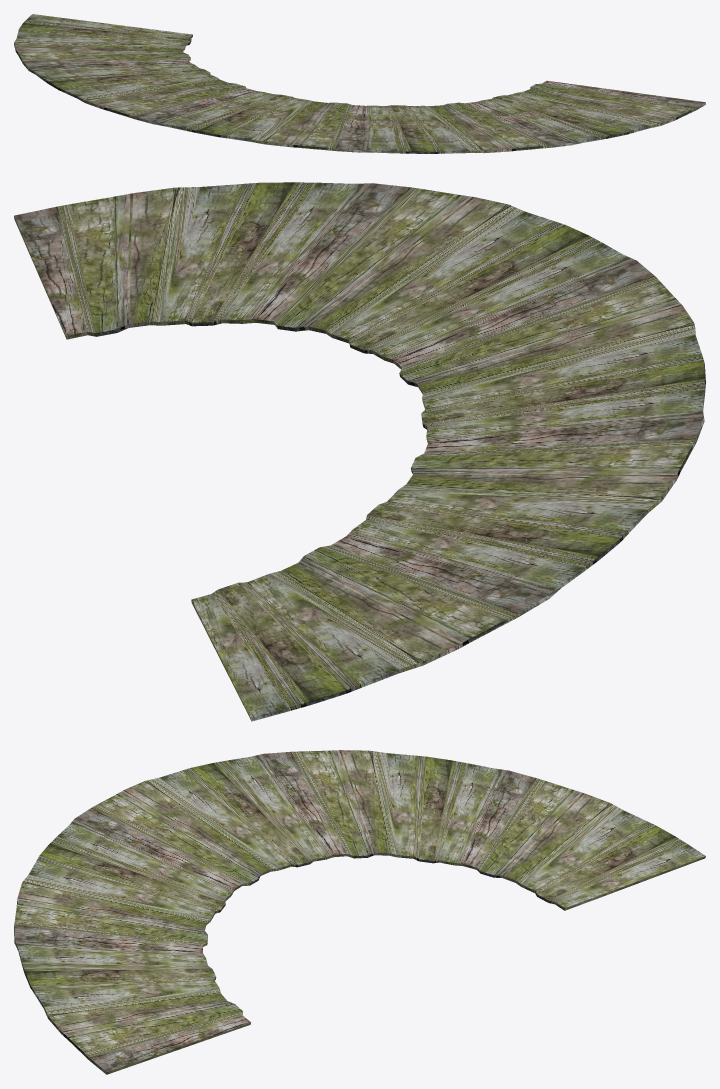
The model's file is GAMEOBJECT-28.fbx.
3 views of the same model, one above another, from view 1: azimuth 30°, elevation 25°; view 2: azimuth 150°, elevation 25°; view 3: azimuth 270°, elevation 25° (orthographic). The views are drawn at different scales.
Visible parts, largest first — view 1: GameObject__28_; view 2: GameObject__28_; view 3: GameObject__28_.
Boxes of the visible parts, x1=… form: GameObject__28_: x1=14, y1=14, x2=705, y2=153; GameObject__28_: x1=14, y1=182, x2=705, y2=721; GameObject__28_: x1=14, y1=750, x2=705, y2=1074.
Bounding box in the file's own units: 690 × 79.21 × 727.
